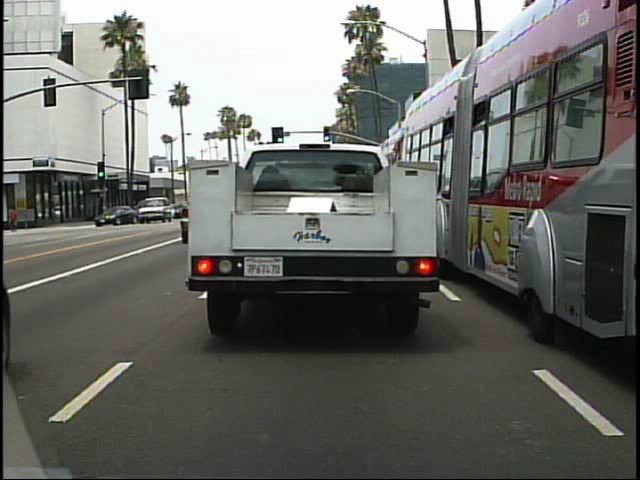person: (10, 205, 20, 233)
